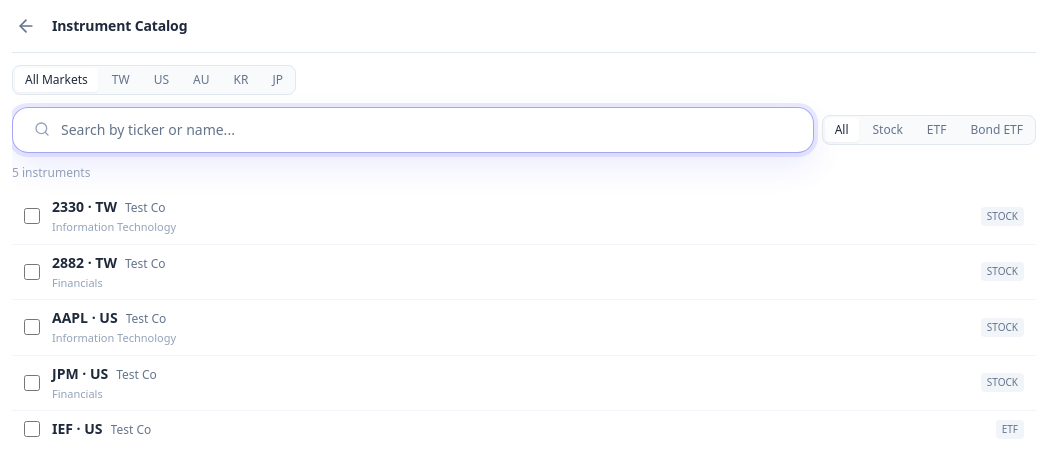
InstrumentCatalogSheet sector filtering › filters TW and US rows by normalized sector and shows sector subtitles
The image size is (1048, 456).
Click the button "TW".
click(121, 80)  # box [102,68,140,92]
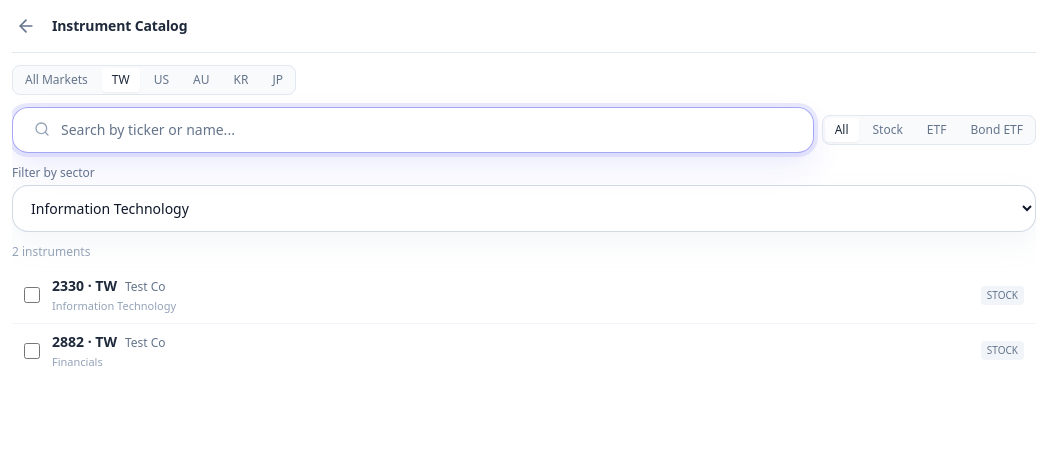
Select "Information Technology" in the dropdown with test id "catalog-sector-filter" at (524, 208), box [12,185,1036,232]
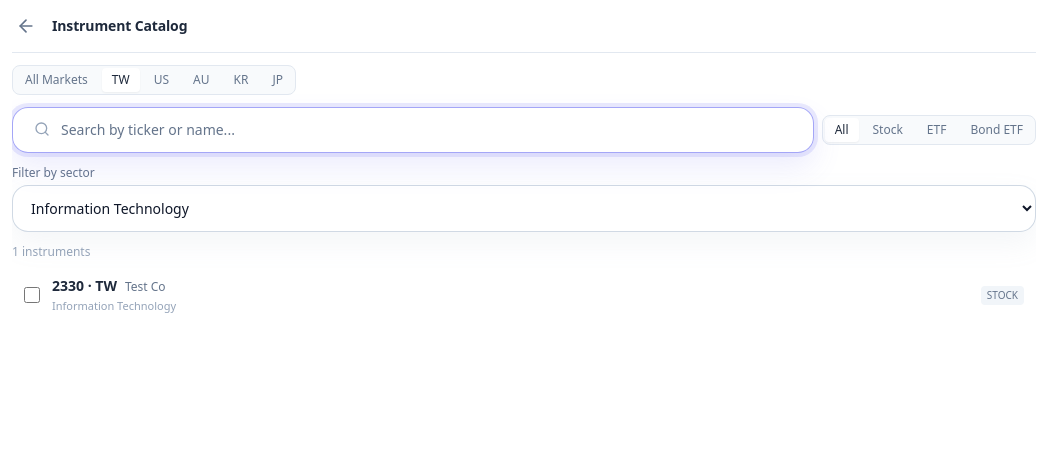
Check: the text "2330 · TW Test Co Information Technology STOCK" is shown, box [12,268,1036,322]
Check: the label with test id "catalog-item-2882" is gone
Click the button "US".
click(161, 80)  # box [144,68,179,92]
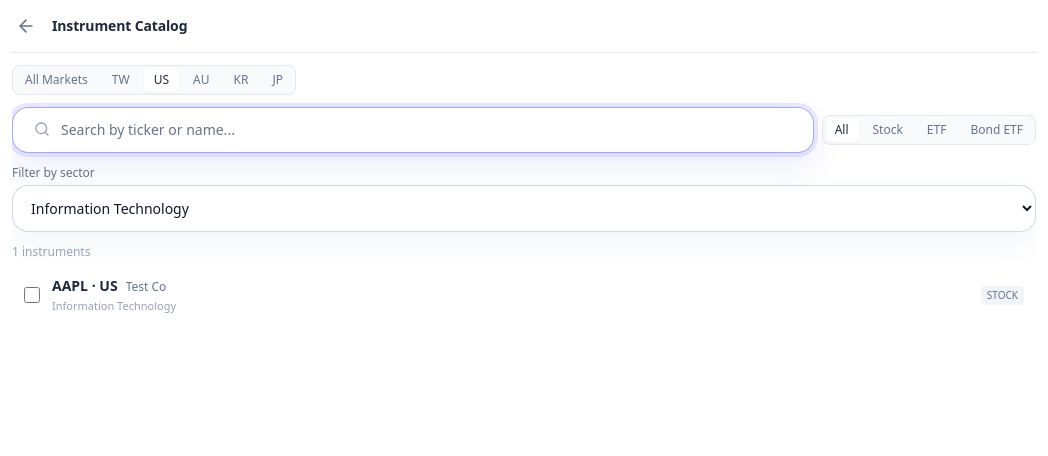
Check: the text with test id "catalog-row-sector-AAPL" reads "Information Technology", box [52,298,176,313]
Check: the text "AAPL · US Test Co Information Technology STOCK" is shown, box [12,268,1036,322]
